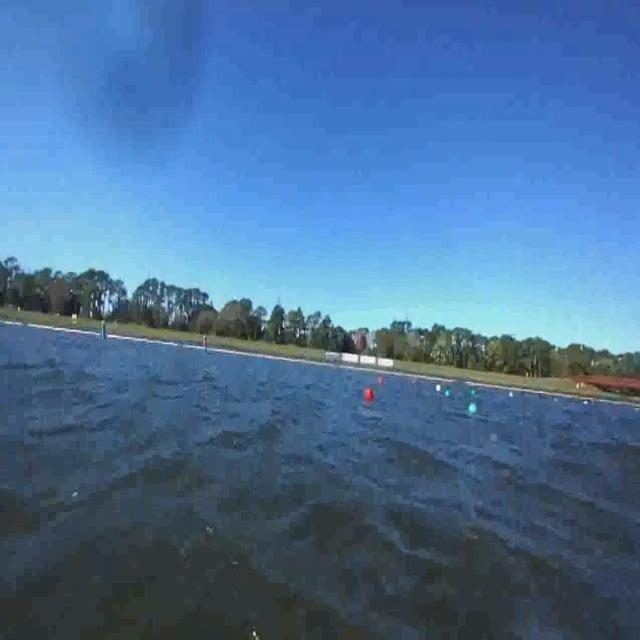green-buoy: (470, 404, 480, 417), (470, 387, 476, 398), (445, 390, 452, 398)
red-buoy: (364, 387, 374, 403), (376, 376, 384, 387)
yellow-buoy: (436, 383, 442, 393)
